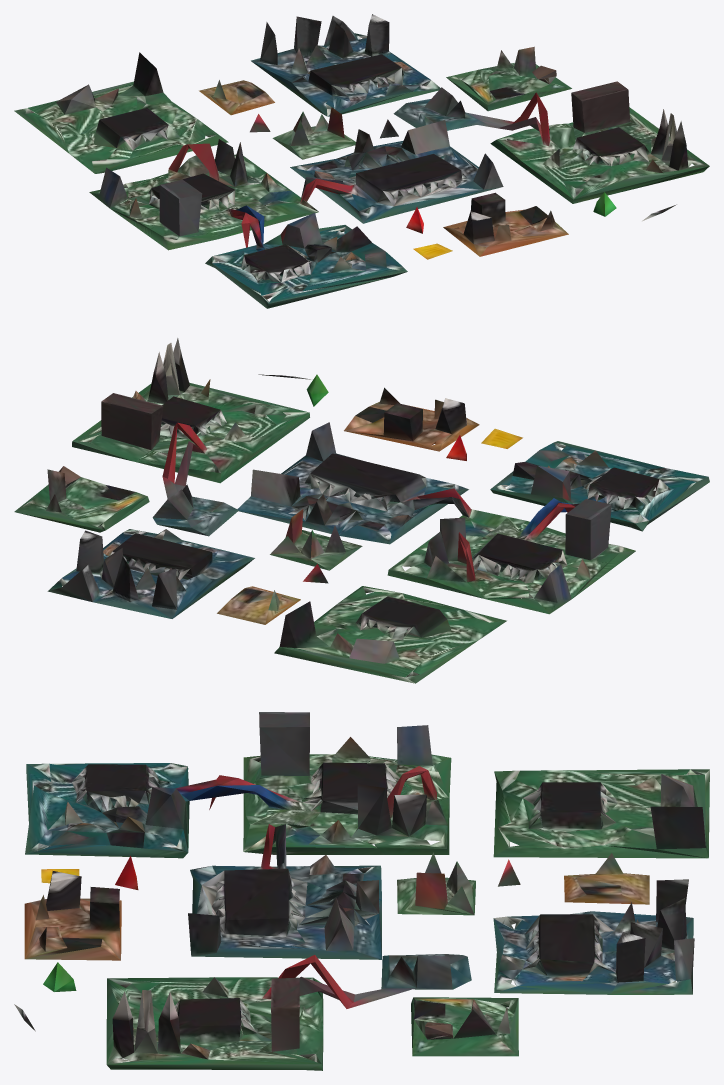
File: part_electronic_platy_idle.glb
3 renders of one model, top to bottom at view 1: azimuth 30°, elevation 25°; view 2: azimuth 150°, elevation 25°; view 3: azimuth 270°, elevation 25°, orthographic. The views are drawn at different scales.
Parts seen in each view (by area): view 1: tripo_node_7c6c09df-353c-4c50-9205-0d297c12bf23; view 2: tripo_node_7c6c09df-353c-4c50-9205-0d297c12bf23; view 3: tripo_node_7c6c09df-353c-4c50-9205-0d297c12bf23.
Boxes of the visible parts, <box> form: tripo_node_7c6c09df-353c-4c50-9205-0d297c12bf23: <box>14,14,709,308</box>; tripo_node_7c6c09df-353c-4c50-9205-0d297c12bf23: <box>14,338,709,683</box>; tripo_node_7c6c09df-353c-4c50-9205-0d297c12bf23: <box>14,712,709,1070</box>.
Bounding box in the file's own units: 0.0967 × 0.0111 × 0.0912.
Materials: 1 (1 with a texture image).
